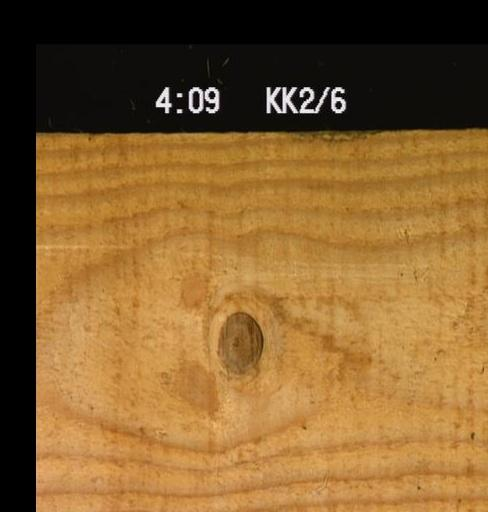dry_knot: (216, 309, 263, 375)
